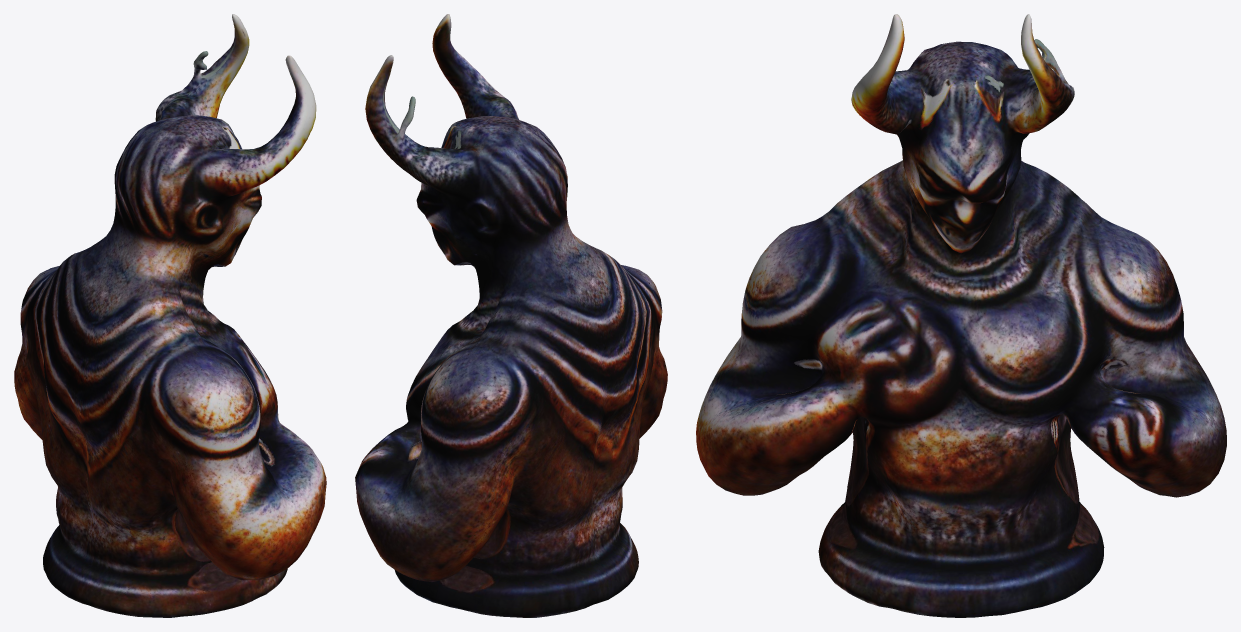
Rendered from Statue 4.fbx.
3 views of the same model, side by side, from view 1: azimuth 30°, elevation 25°; view 2: azimuth 150°, elevation 25°; view 3: azimuth 270°, elevation 25° (orthographic). The views are drawn at different scales.
Parts seen in each view (by area): view 1: mesh; view 2: mesh; view 3: mesh.
Boxes of the visible parts, <box> form: mesh: <box>14,14,326,617</box>; mesh: <box>355,14,667,617</box>; mesh: <box>696,14,1226,617</box>.
Bounding box in the file's own units: 45.11 × 99.55 × 79.79.
